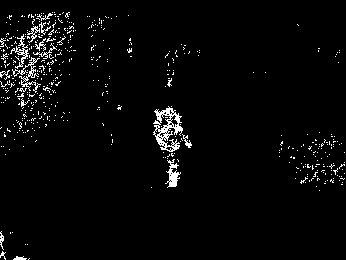person: (153, 107, 192, 188)
